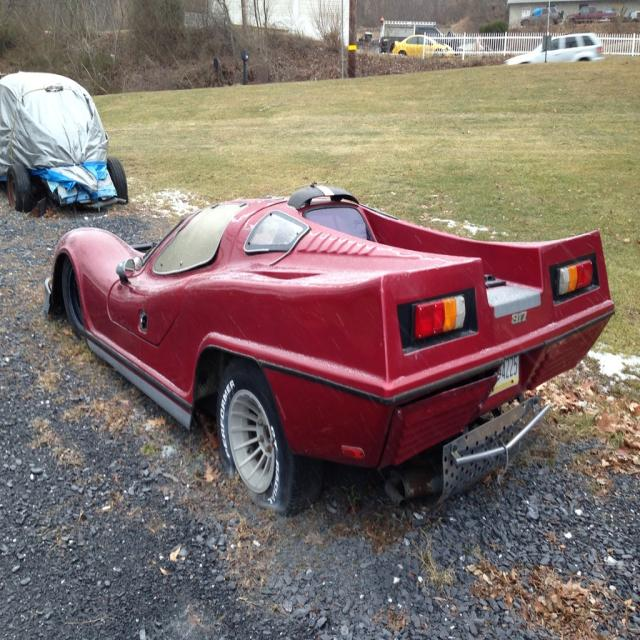car: (38, 175, 613, 511)
